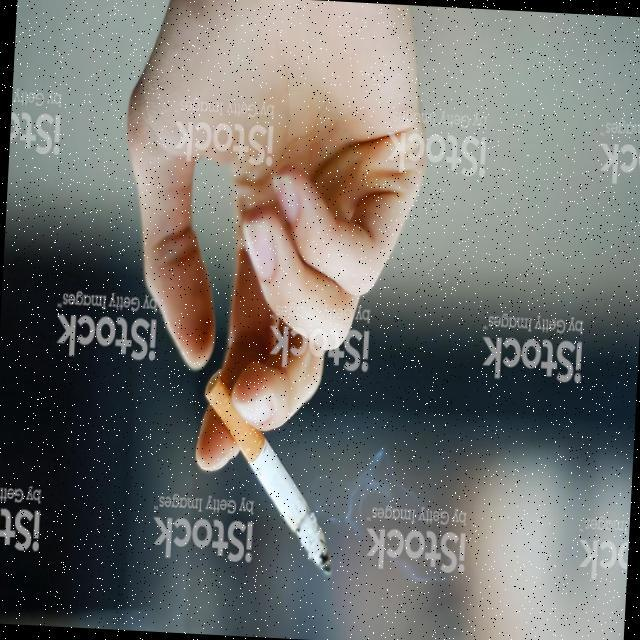cigarette: (192, 371, 344, 571)
